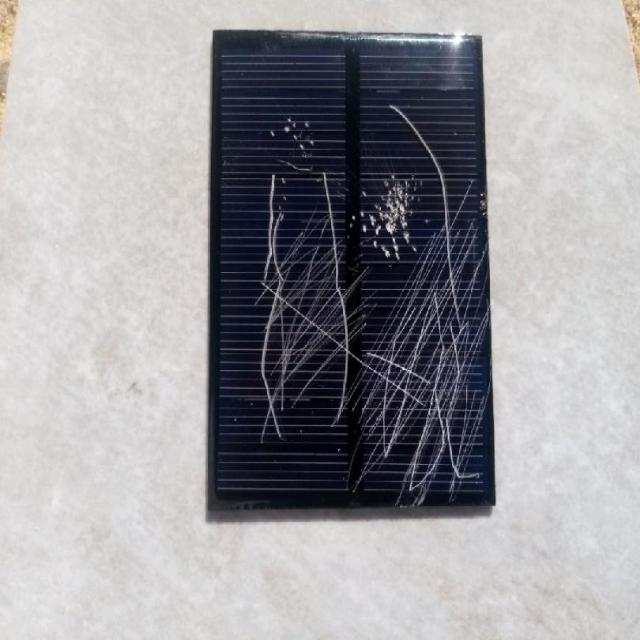faulty: (217, 41, 490, 515)
